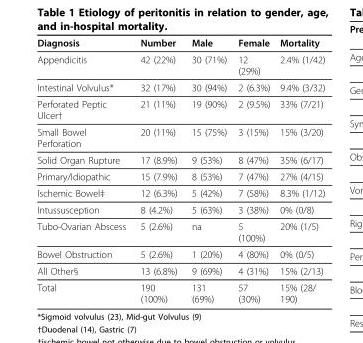table: (36, 36, 324, 304)
table column: (36, 36, 132, 304), (132, 36, 183, 304), (274, 36, 324, 304), (183, 36, 231, 304), (231, 36, 274, 304)
table column header: (36, 36, 324, 50)
table row: (36, 50, 324, 78), (36, 95, 324, 123), (36, 123, 324, 151), (36, 217, 324, 245), (36, 278, 324, 304), (36, 78, 324, 95), (36, 167, 324, 184), (36, 184, 324, 201), (36, 245, 324, 262), (36, 151, 324, 167), (36, 201, 324, 217), (36, 262, 324, 278), (36, 36, 324, 50)
